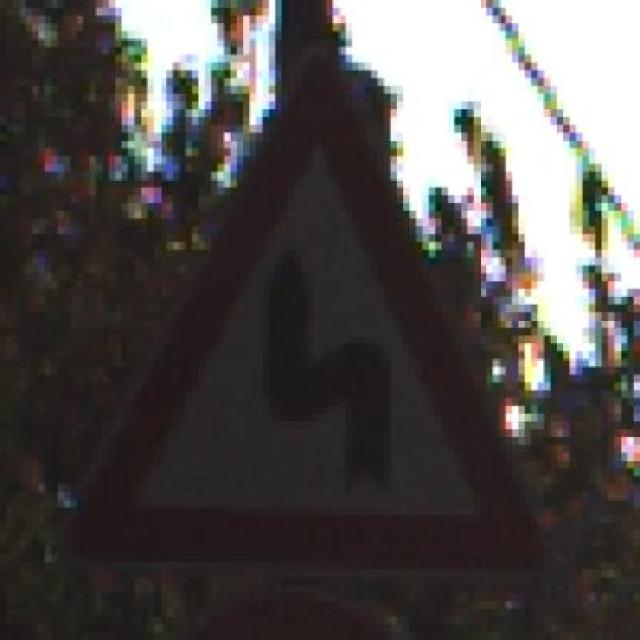Left Zig Zag Traffic: (64, 47, 550, 585)
